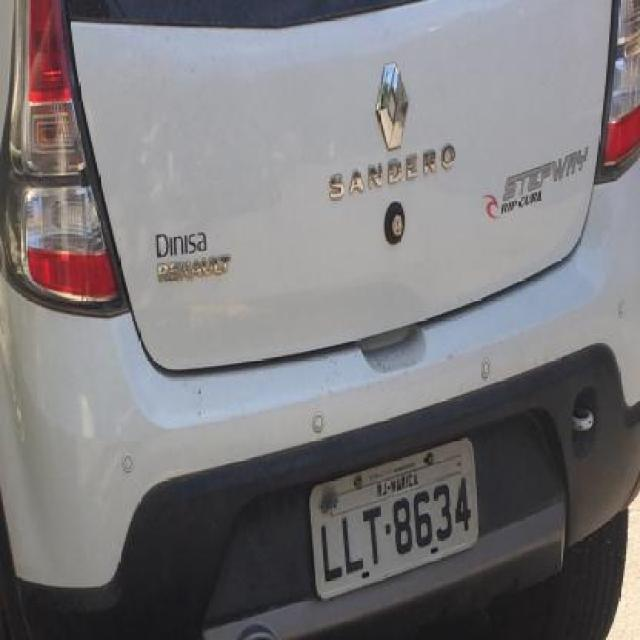old_plate: (302, 433, 489, 606)
